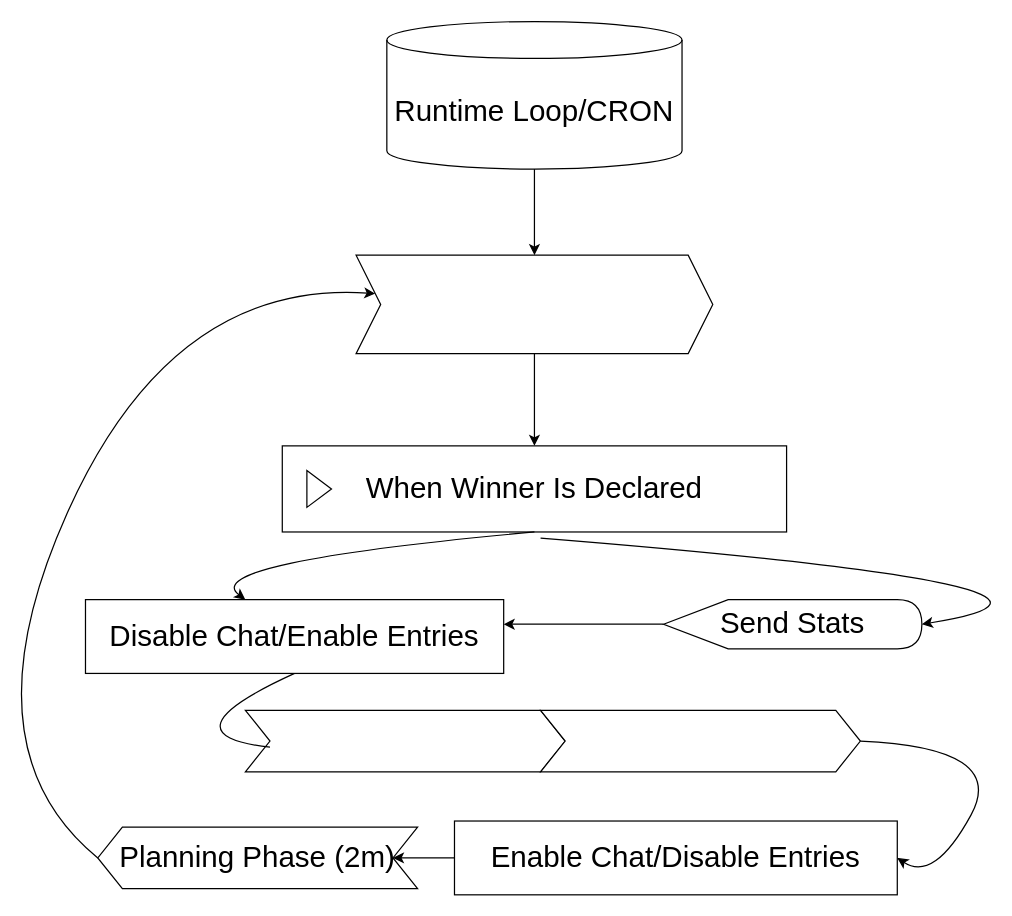
This 1012x916 diagram has some shape labels left out. The centre of each missing label's shape, as x and y in pixels:
AI Battling Phase: the point at 534,304
Prep. Phase (2m): the point at 699,740
Voting Phase (1m): the point at 404,740
